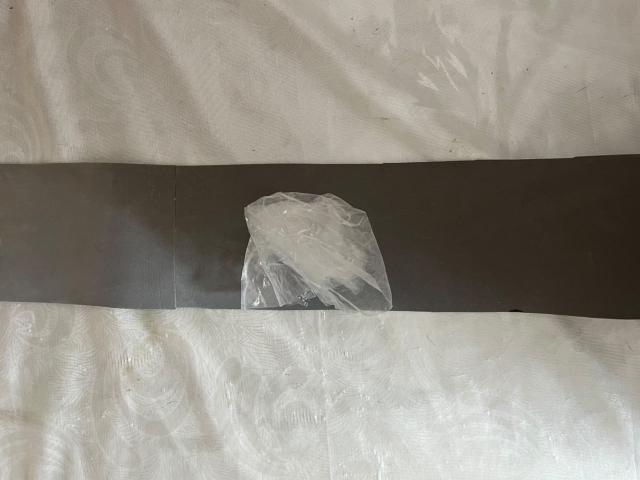LDPE: (208, 150, 473, 403)
